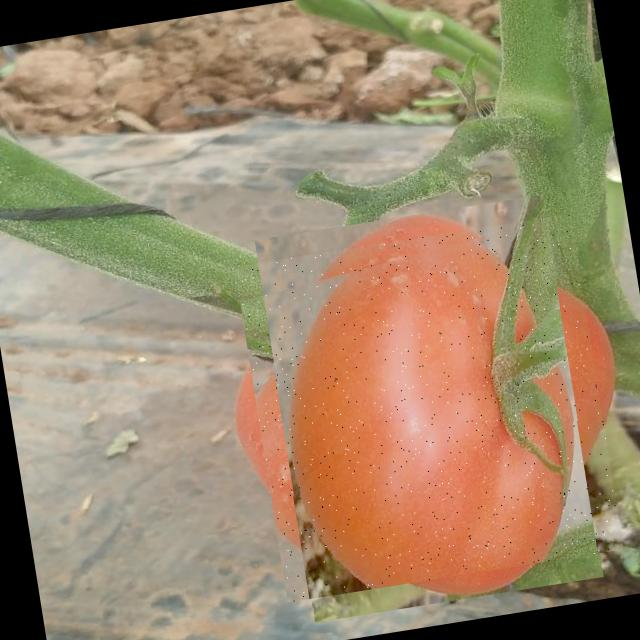Ripe Tomato: (234, 213, 623, 602)
